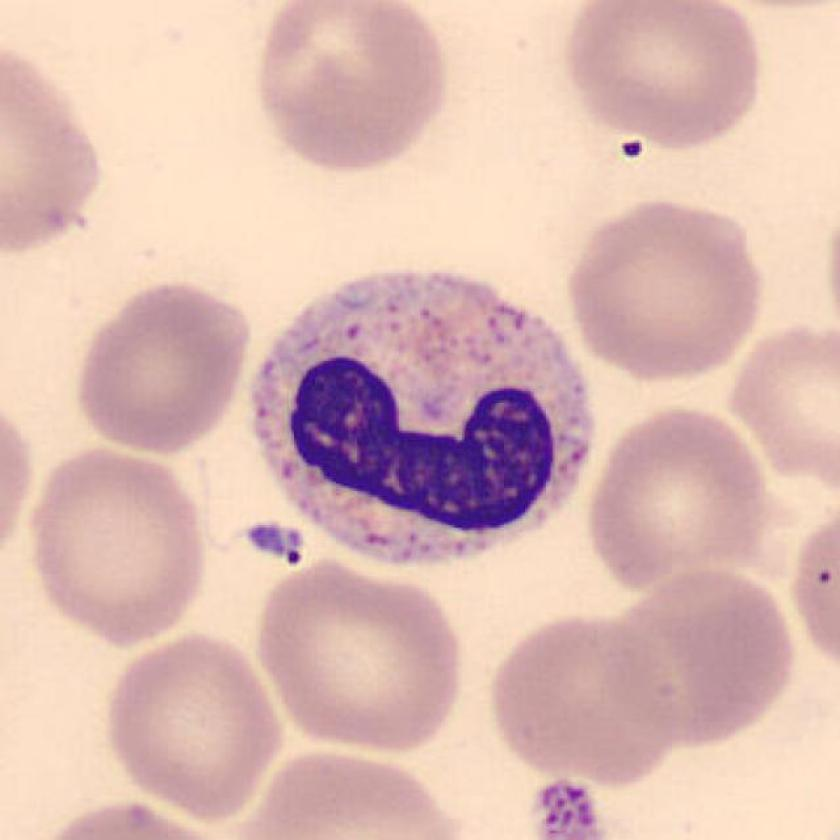neutrophil: (256, 270, 590, 560)
